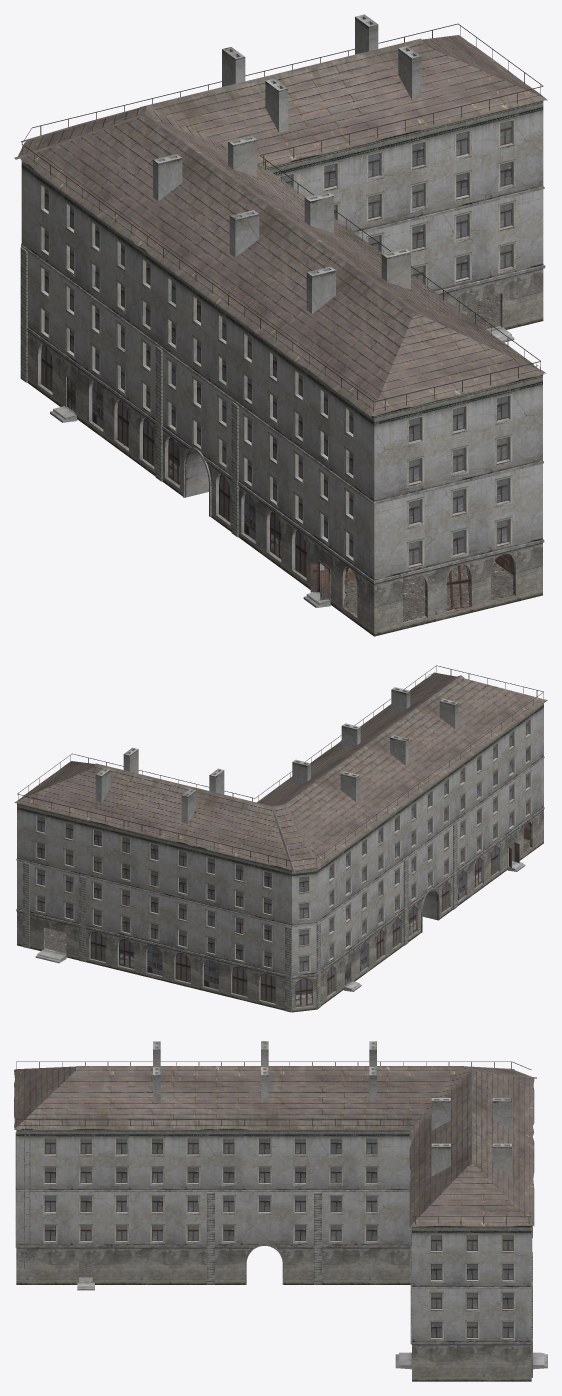
The model's file is Building_City_03_LOD1.FBX.
The picture shows the model from 3 angles, top to bottom: view 1: azimuth 30°, elevation 25°; view 2: azimuth 150°, elevation 25°; view 3: azimuth 270°, elevation 25°; orthographic projection. The views are drawn at different scales.
Parts seen in each view (by area): view 1: Building_City_03_LOD1, Building_City_03_Roof_LOD1, Building_City_03_Frame_LOD1, Building_City_03_Tube_LOD1; view 2: Building_City_03_LOD1, Building_City_03_Roof_LOD1, Building_City_03_Frame_LOD1, Building_City_03_Tube_LOD1; view 3: Building_City_03_LOD1, Building_City_03_Roof_LOD1, Building_City_03_Frame_LOD1, Building_City_03_Tube_LOD1, Stairs_Metal_LOD1.
Boxes of the visible parts, box(x1,y1,x2,y2) form: Building_City_03_LOD1: box(20, 101, 545, 636); Building_City_03_Roof_LOD1: box(14, 23, 547, 416); Building_City_03_Frame_LOD1: box(39, 118, 515, 570); Building_City_03_Tube_LOD1: box(153, 14, 421, 313); Building_City_03_LOD1: box(16, 703, 544, 1012); Building_City_03_Roof_LOD1: box(14, 665, 547, 873); Building_City_03_Frame_LOD1: box(34, 717, 531, 974); Building_City_03_Tube_LOD1: box(95, 687, 458, 823); Building_City_03_LOD1: box(15, 1128, 547, 1381); Building_City_03_Roof_LOD1: box(14, 1061, 536, 1226); Building_City_03_Frame_LOD1: box(43, 1137, 515, 1340); Building_City_03_Tube_LOD1: box(153, 1041, 511, 1175); Stairs_Metal_LOD1: box(24, 1126, 30, 1269).
Size of the model in its own units: 3703 by 5201 by 2141.
5 materials, 5 textured.
